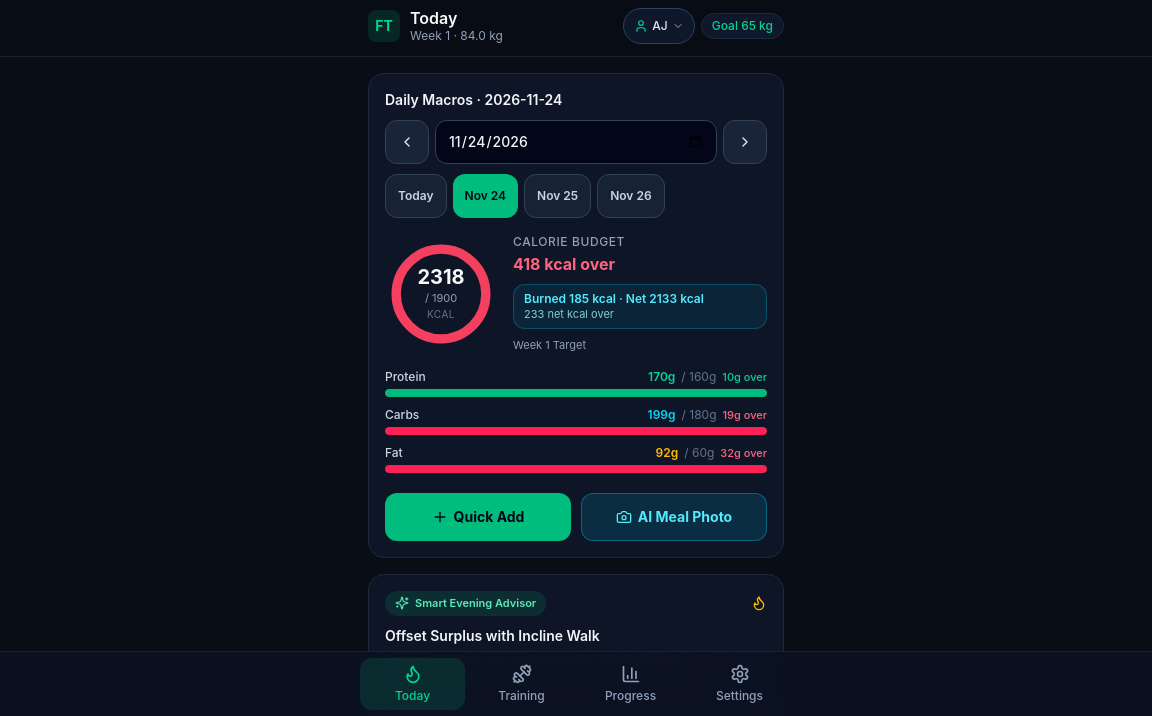
Test: Today View & AI Meal Photo end-to-end flow › renders Nov 24 seed macros, net calorie badge, and switches to Nov 25 and Nov 26
This screenshot has width=1152, height=716.
Expected: the heading "Daily Macros · 2026-11-24" is shown, [385,90,562,110]
Expected: the text "2318" is shown, [417,265,465,290]
Click the button named "Next day". click: click(745, 142)
box: [723,120,767,164]
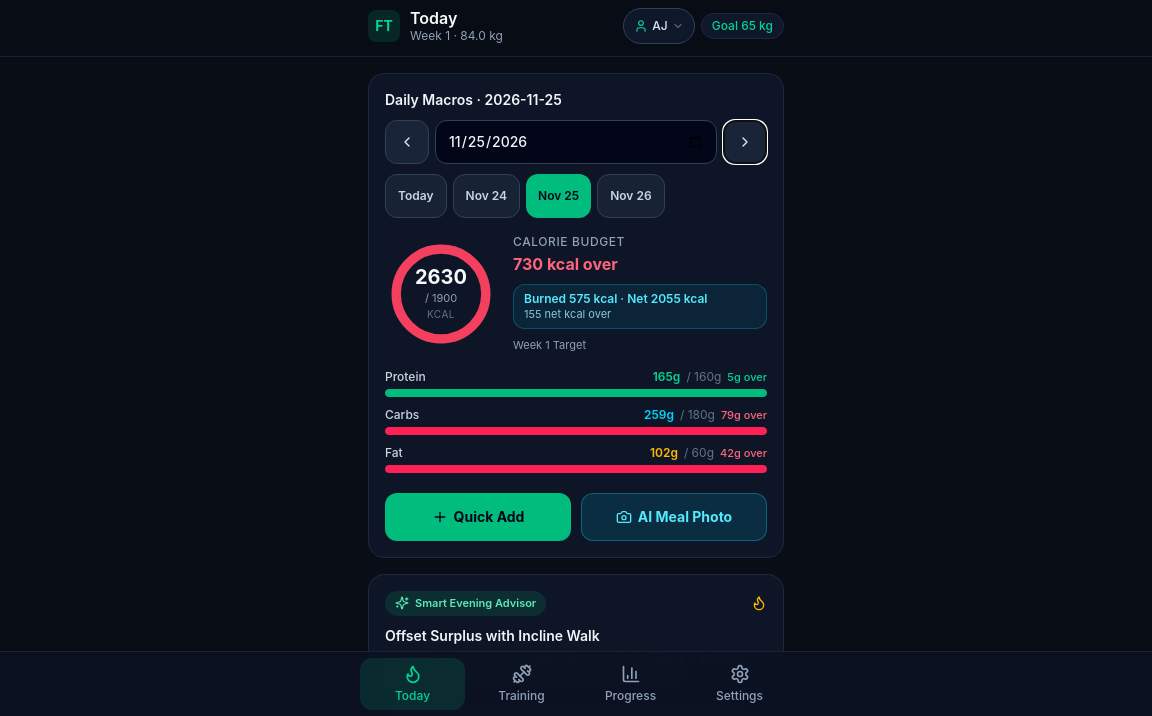
Result: the heading "Daily Macros · 2026-11-25" is shown at [385,90,562,110]
Result: the text "2630" is shown at [415,265,467,290]
Result: the text "730 kcal over" is shown at [513,254,618,274]
Click the button named "Next day". click: click(745, 142)
box: [723,120,767,164]
(page scrolled)
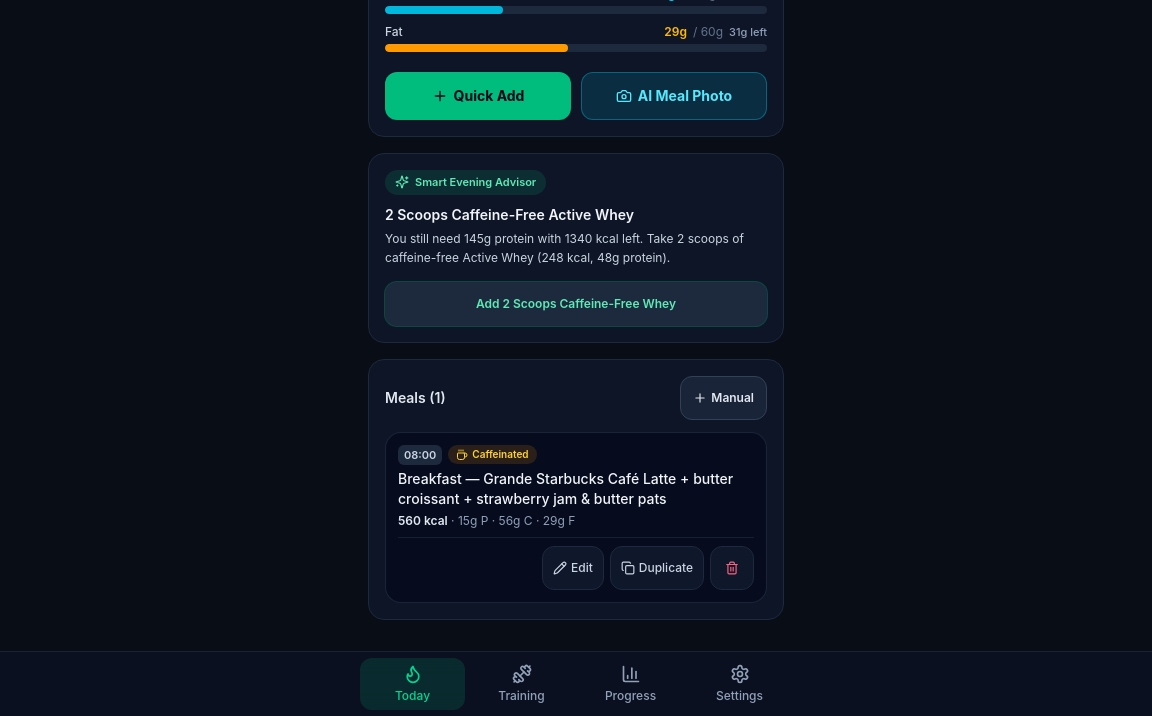
Result: the heading "Meals (1)" is shown at [385,388,446,408]
Result: the text "Breakfast — Grande Starbucks Café Latte + butter croissant + strawberry jam & butter pats" is shown at [398,470,733,507]
